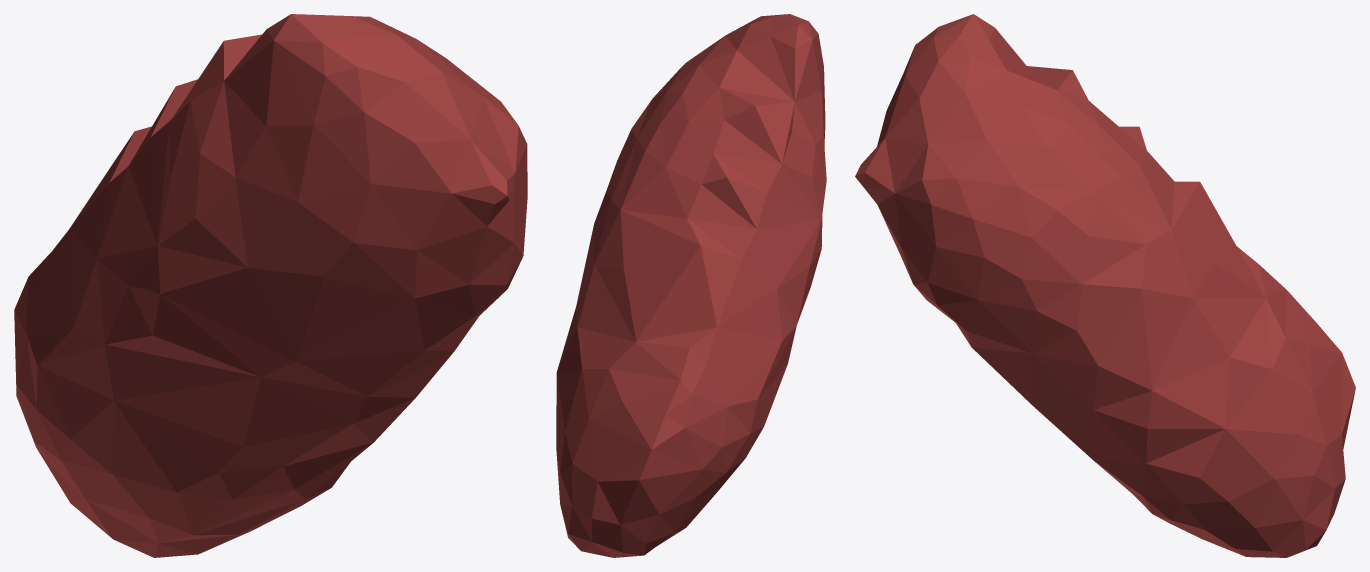
Rendered from Model_558_RH__Hypoglossal_nucleus_(12N).obj.
3 renders of one model, left to right at view 1: azimuth 30°, elevation 25°; view 2: azimuth 150°, elevation 25°; view 3: azimuth 270°, elevation 25°, orthographic. The views are drawn at different scales.
Bounding box in the file's own units: 0.4661 × 0.9387 × 0.8364.
